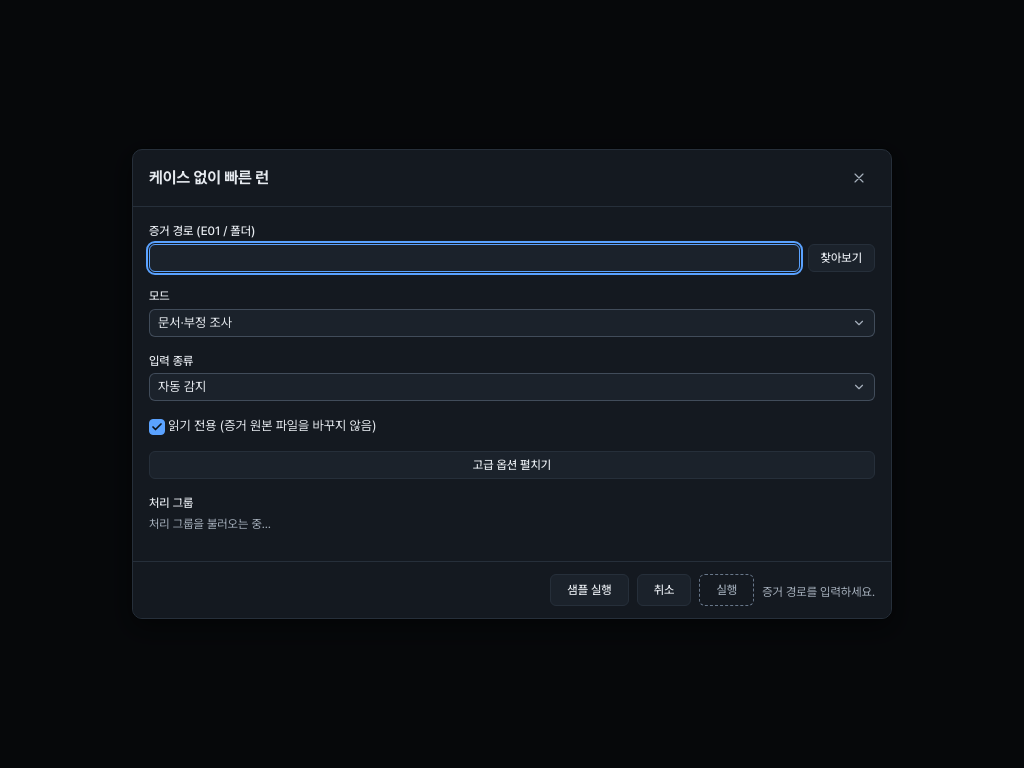
Test: RunDialog › browses the server filesystem and picks a path
Click the button "찾아보기" at (841, 258), box [808,244,875,272]
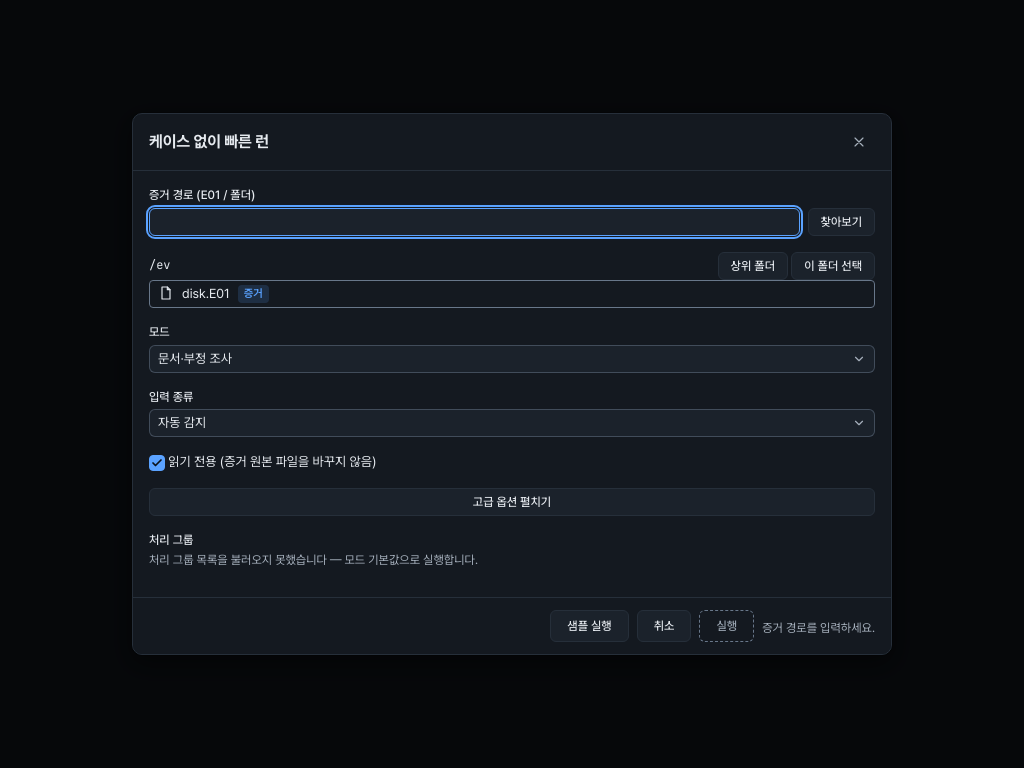
Click the button "disk.E01 증거" at (206, 293), box [150,281,874,307]
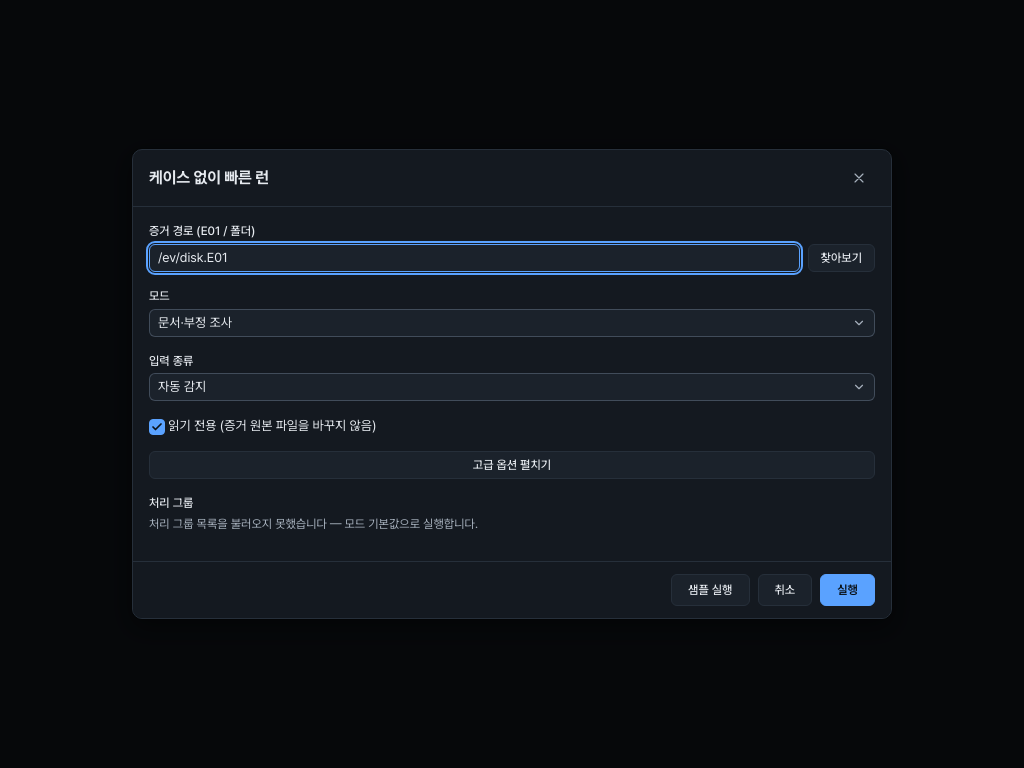
Now the field labelled "증거 경로 (E01 / 폴더)" holds "/ev/disk.E01", box [149,244,800,272]
